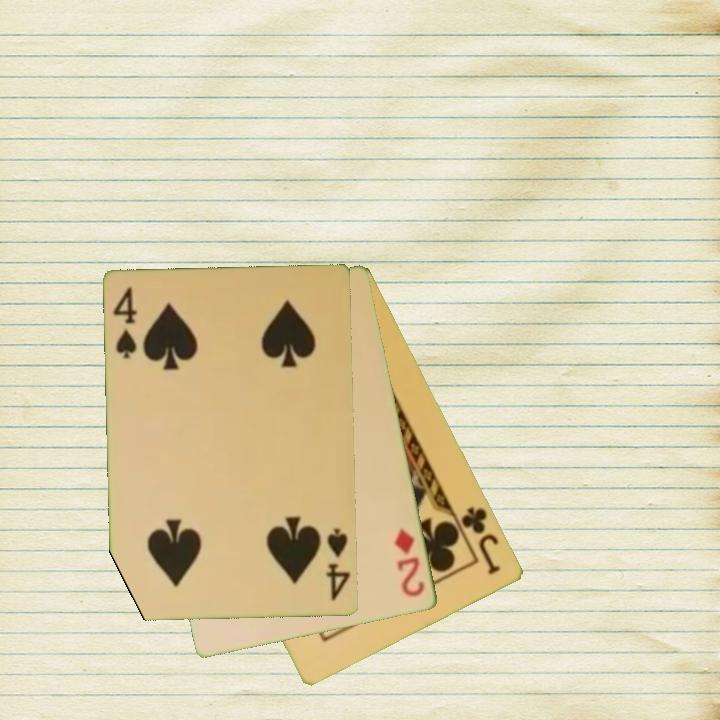2d: (391, 524, 428, 601)
4s: (322, 525, 353, 604), (110, 284, 141, 362)
Jc: (451, 503, 504, 578)
